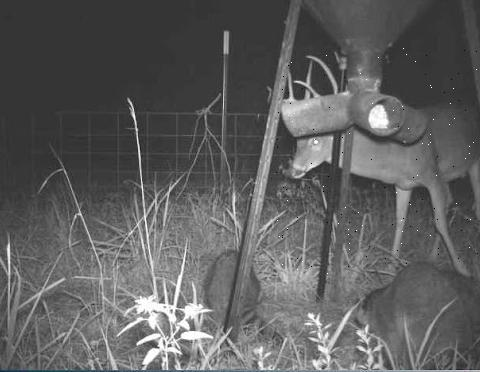Deer: (276, 48, 480, 275)
